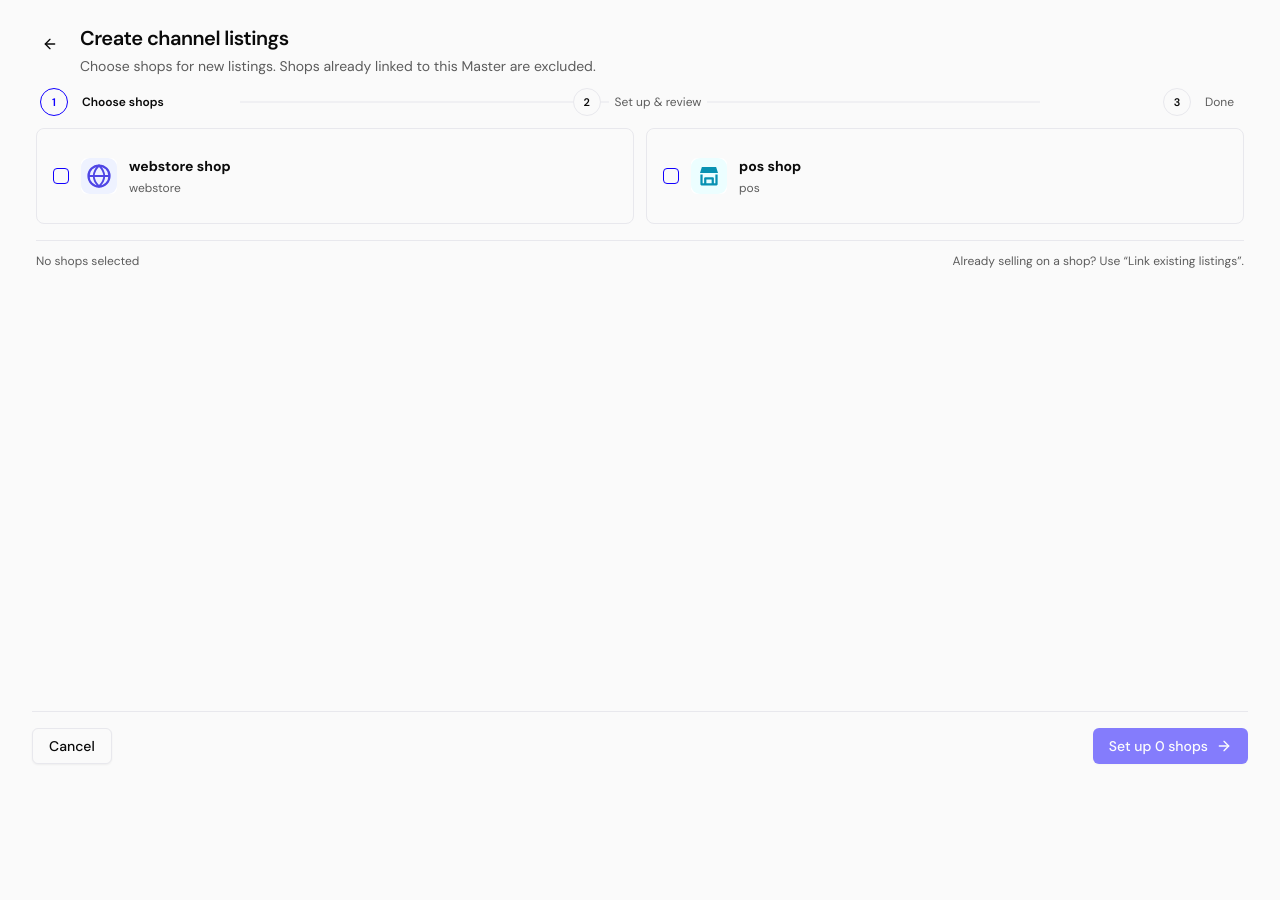
temporary creation selection › starts empty even when saved enabled flags are true, and selection never changes enabled
Check: the button "Set up 0 shops" is disabled, box [1093,728,1248,764]
Click the button with aria-label "Select webstore shop · webstore" at x=99, y=176, box [36,128,634,224]
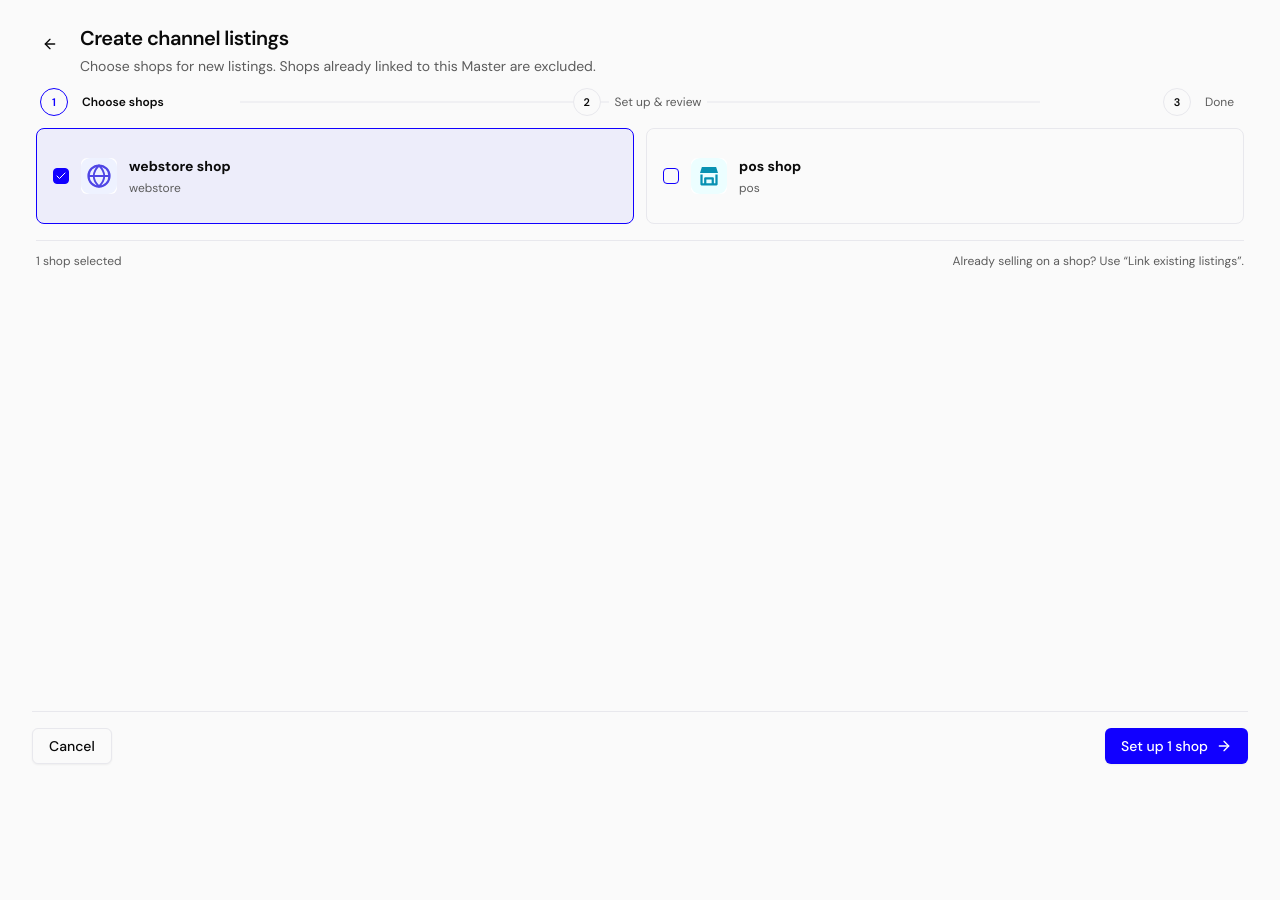
Click the button with aria-label "Select webstore shop · webstore" at x=99, y=176, box [36,128,634,224]
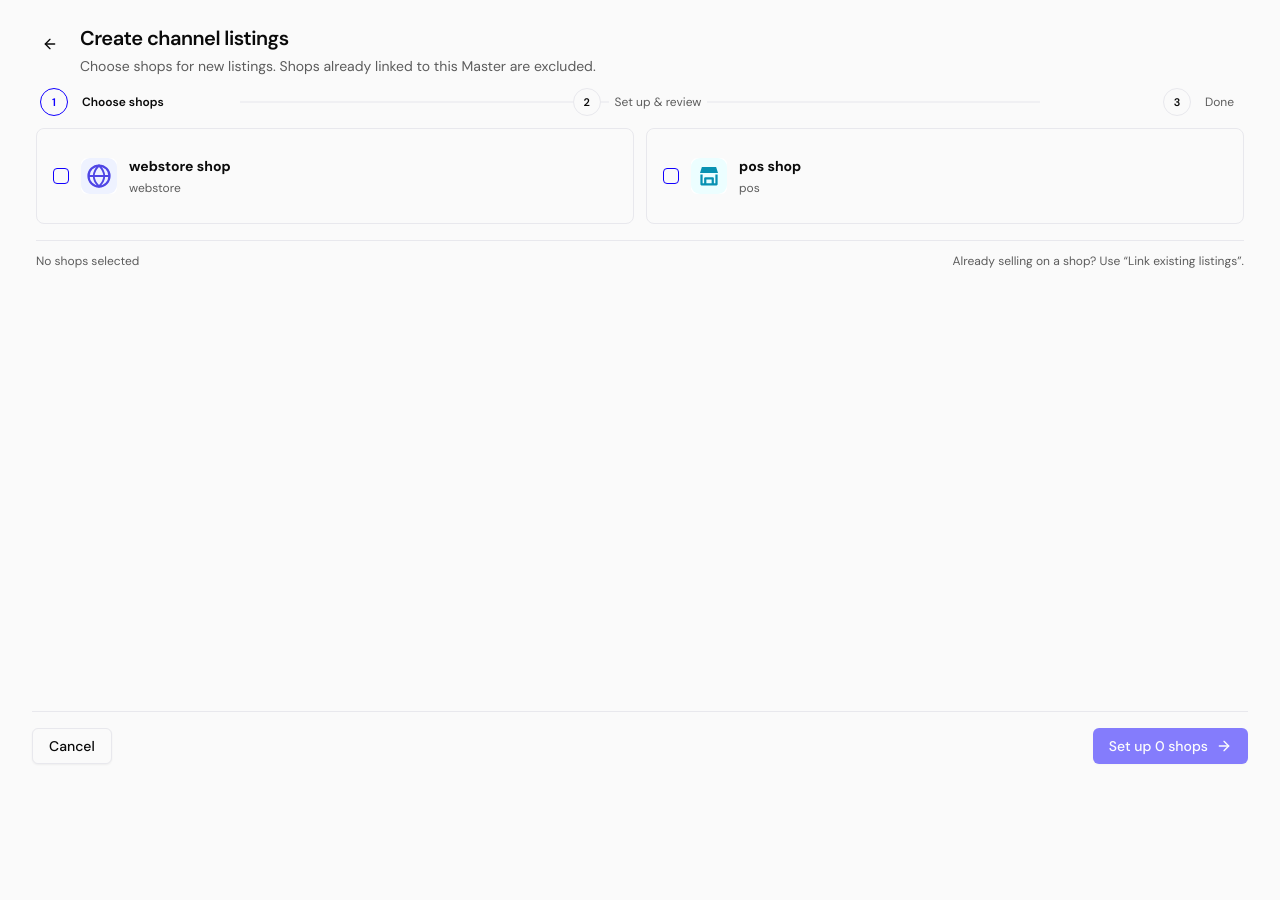
Check: the button "Set up 0 shops" is disabled, box [1093,728,1248,764]
